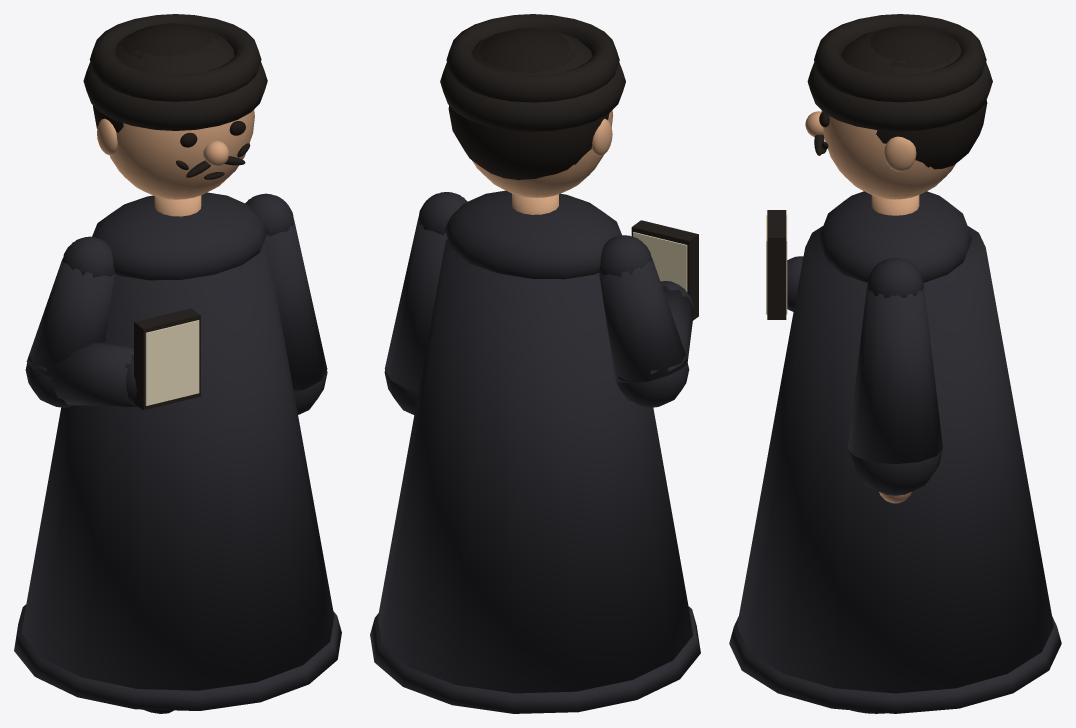
File: villager_ly_truong.glb
3 views of the same model, side by side, from view 1: azimuth 30°, elevation 25°; view 2: azimuth 150°, elevation 25°; view 3: azimuth 270°, elevation 25° (orthographic).
Parts seen in each view (by area): view 1: Body, Head, ArmL, ArmR; view 2: Body, Head, ArmL, ArmR; view 3: Body, Head, ArmR, ArmL.
Boxes of the visible parts, bbox=[...] form: Body: bbox=[14, 192, 341, 710]; Head: bbox=[83, 14, 267, 199]; ArmL: bbox=[25, 236, 200, 410]; ArmR: bbox=[245, 193, 327, 414]; Body: bbox=[370, 190, 700, 713]; Head: bbox=[440, 14, 625, 197]; ArmL: bbox=[599, 220, 698, 407]; ArmR: bbox=[384, 192, 467, 414]; Body: bbox=[729, 191, 1061, 713]; Head: bbox=[805, 14, 992, 199]; ArmR: bbox=[848, 257, 942, 503]; ArmL: bbox=[766, 210, 803, 319].
Bounding box in the file's own units: 0.71 × 1.53 × 0.7.
